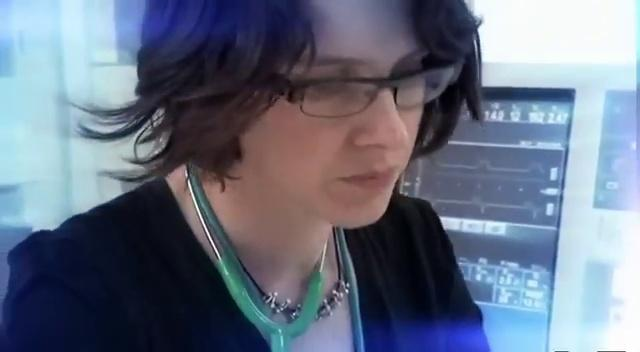doctor: (2, 0, 493, 350)
